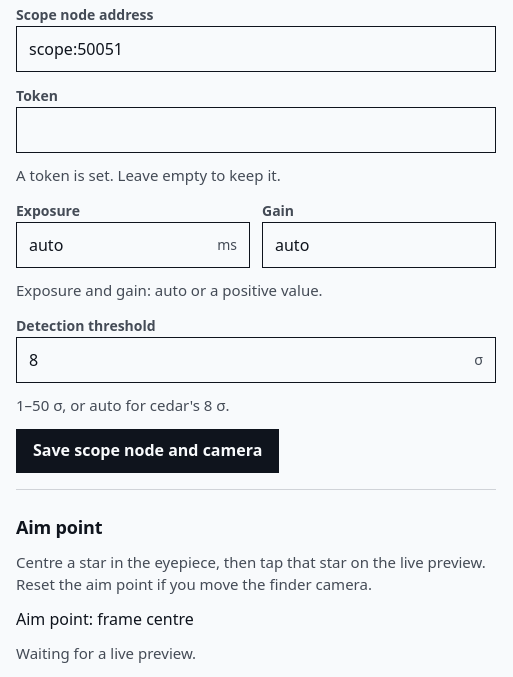
Test: Setup's scope node and camera › keeps the set token when saved empty and uses cedar's 8 sigma for automatic threshold
The image size is (513, 677).
(page scrolled)
Replace the text in the field labelled "Detection threshold" with "auto" at (246, 360), box x1=17 y1=338 x2=474 y2=382
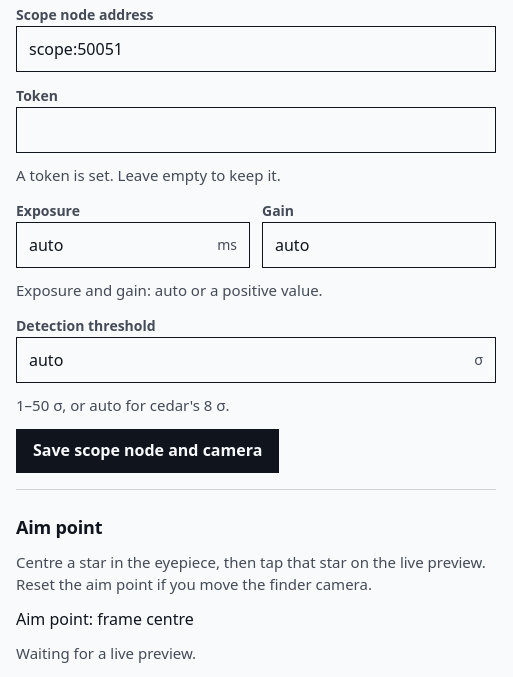
Click the button "Save scope node and camera" at (148, 451), box x1=16 y1=429 x2=279 y2=473
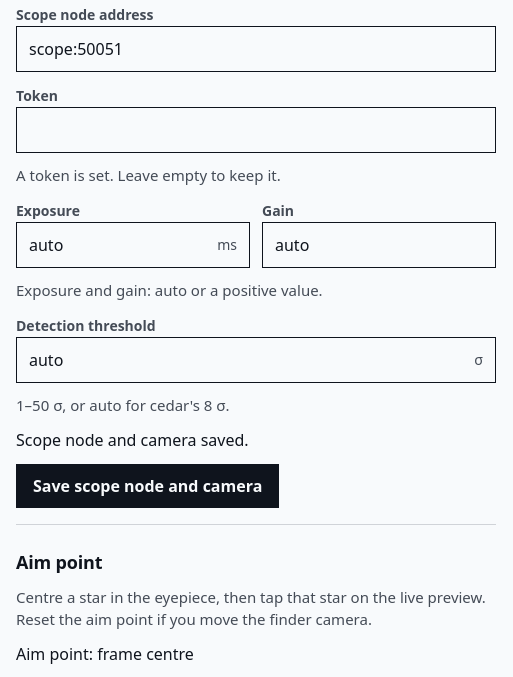
Expected: the text "Scope node and camera saved." is shown, x1=16 y1=429 x2=249 y2=451
